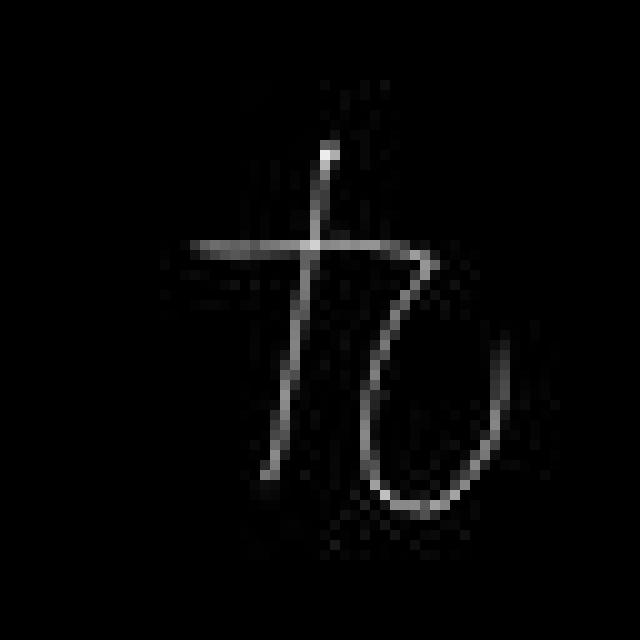9 -nine-: (198, 122, 518, 529)
